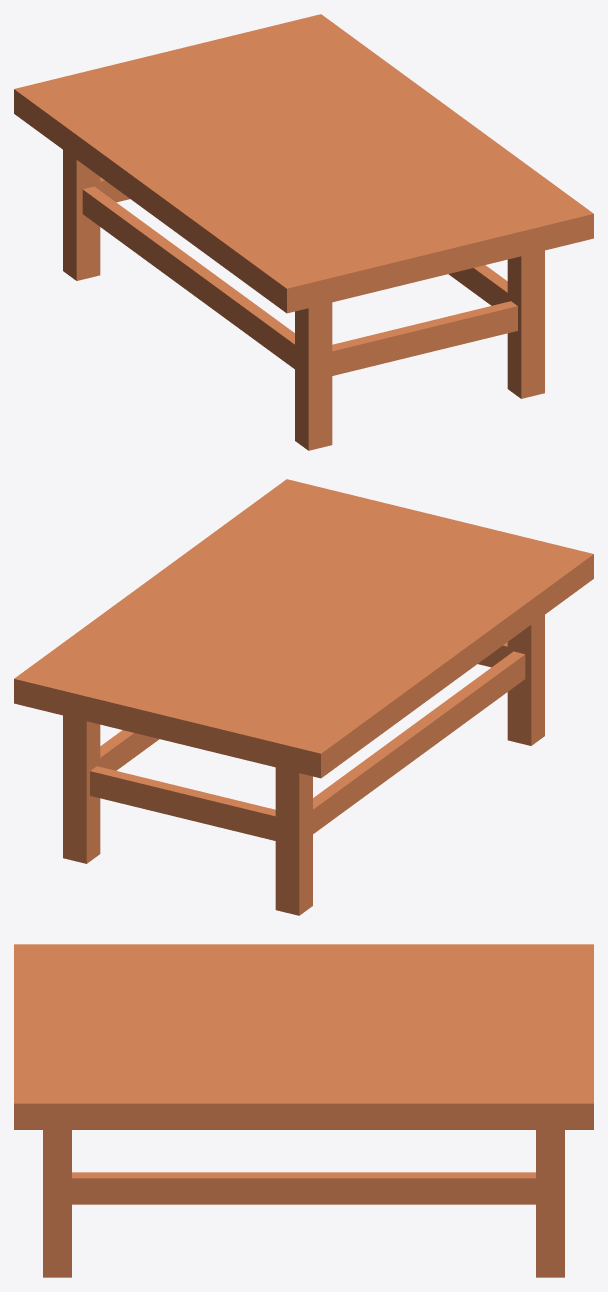
File: stall.fbx
3 views of the same model, one above another, from view 1: azimuth 30°, elevation 25°; view 2: azimuth 150°, elevation 25°; view 3: azimuth 270°, elevation 25° (orthographic). The views are drawn at different scales.
Visible parts, largest first — view 1: stall; view 2: stall; view 3: stall.
Boxes of the visible parts, x1,y1,x2,y2 form: stall: [14, 14, 593, 450]; stall: [14, 479, 593, 915]; stall: [14, 944, 593, 1277].
Size of the model in its own units: 6.5 by 3.66 by 10.
